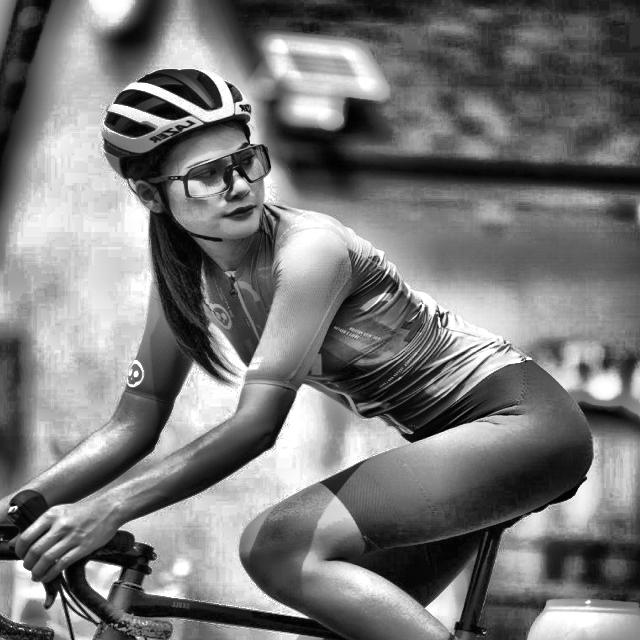Helmet: (95, 55, 282, 267)
